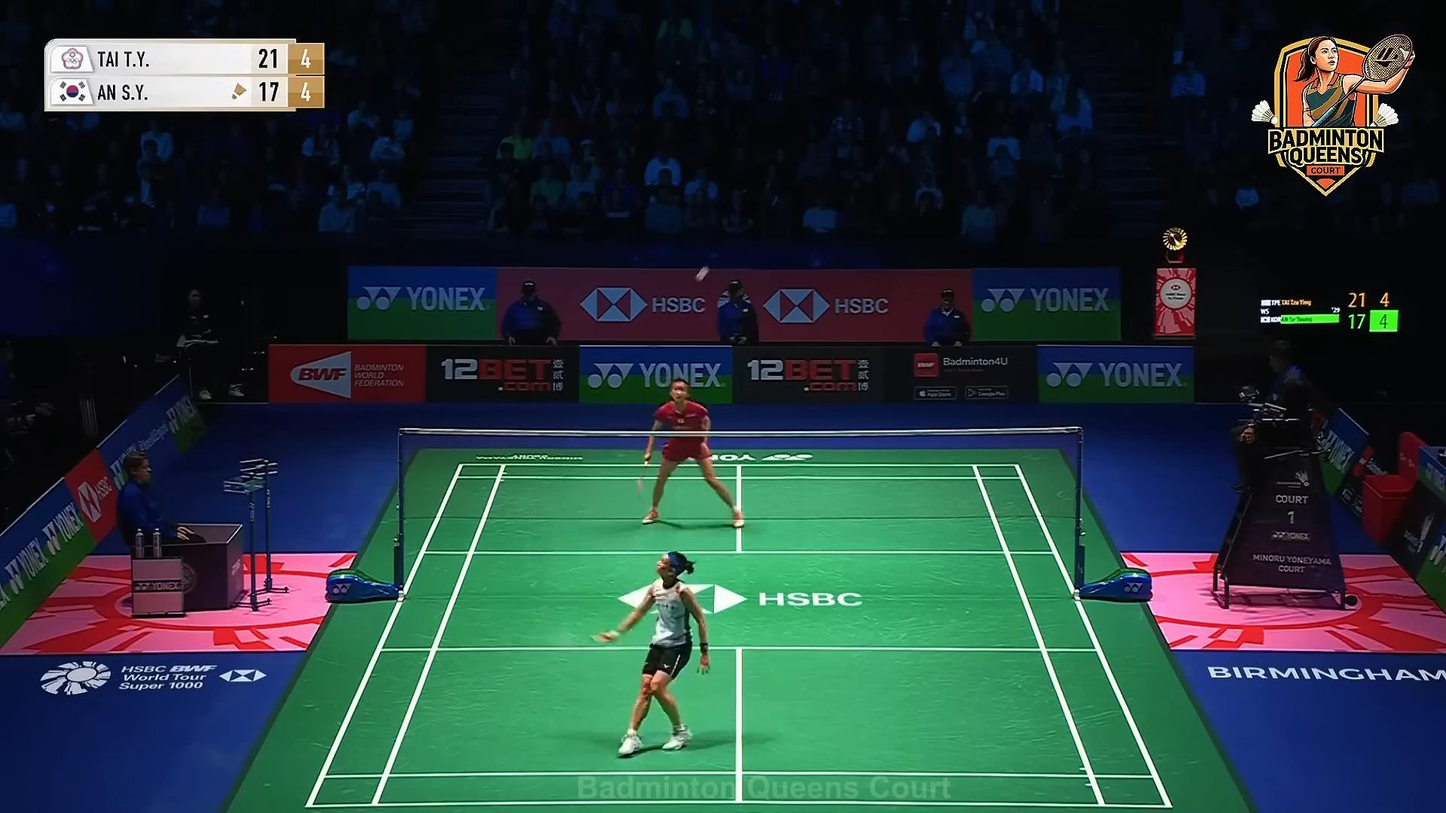player: (599, 549, 709, 758), (642, 378, 744, 528)
shuttlecock: (695, 266, 709, 281)
